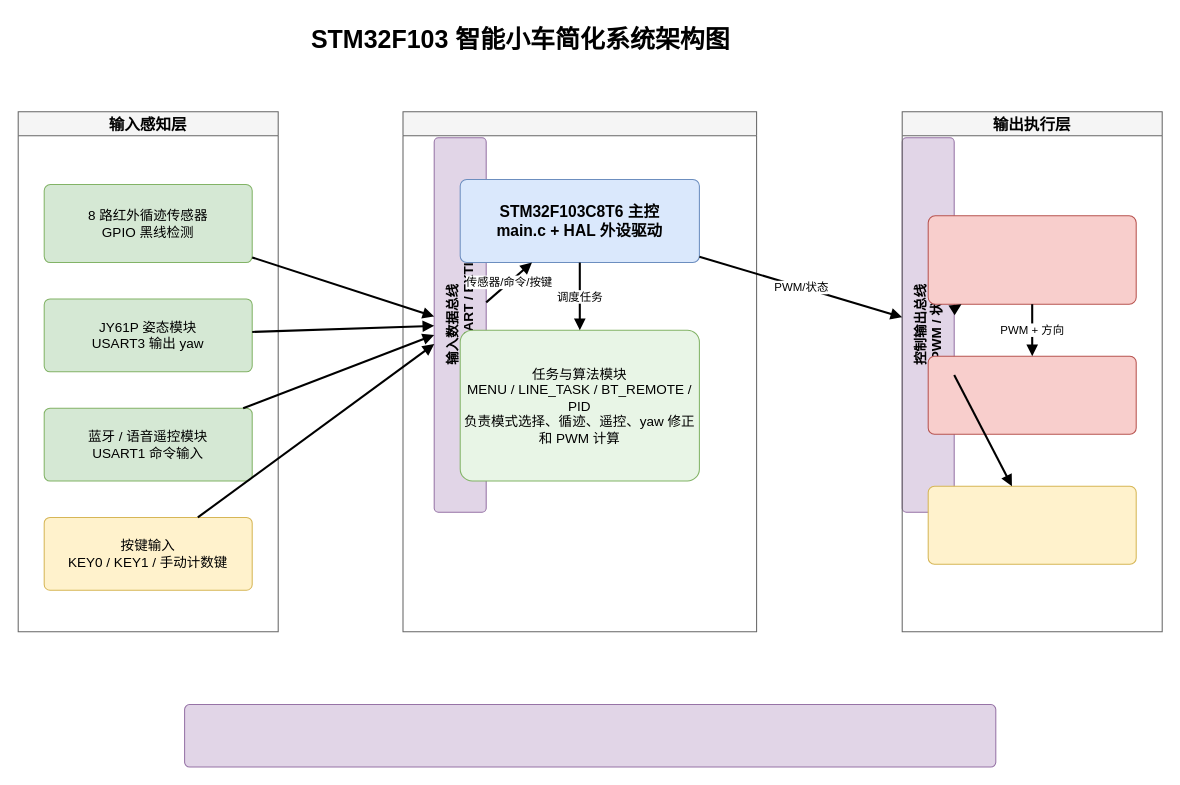
The diagram is 1180 pixels wide and 785 high, and some of its shapes have lost their labels. The shapes that lost their labels are listed below. From the top down, each one's box as (x1, y1, x2, y2) in pixels, then its label:
(927, 215, 1136, 304): 电机驱动 TIM3 PWM + AIN/BIN 方向控制
(402, 111, 757, 632): 控制核心层
(927, 355, 1136, 434): 左 / 右直流电机 前进、后退、转向、停止
(927, 485, 1136, 564): OLED / LED / 蜂鸣器 菜单、状态、安全反馈
(184, 704, 996, 767): 核心数据流：输入感知 → 输入总线 → STM32 主控/任务算法 → 输出总线 → 电机与状态反馈
